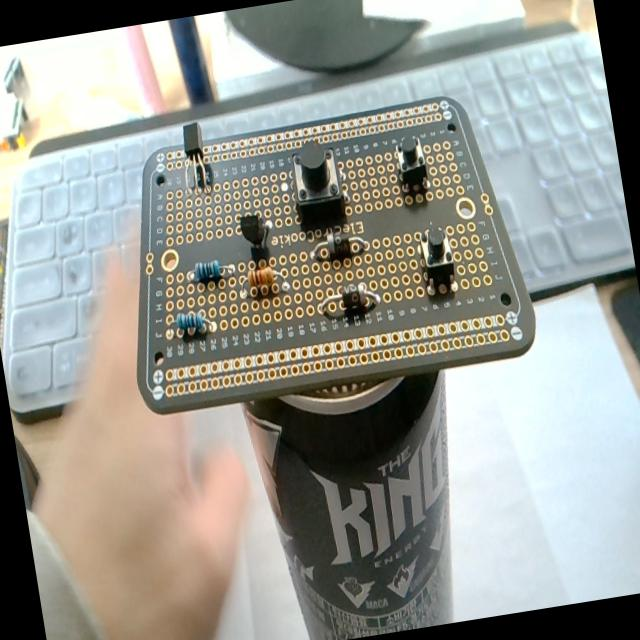diode: (318, 280, 382, 322), (307, 225, 371, 266)
resistor: (237, 260, 291, 302), (175, 308, 208, 338), (191, 258, 224, 286)
switch: (286, 140, 350, 232), (415, 220, 460, 298), (392, 134, 430, 198)
transistor: (179, 121, 212, 192), (238, 211, 270, 250)
